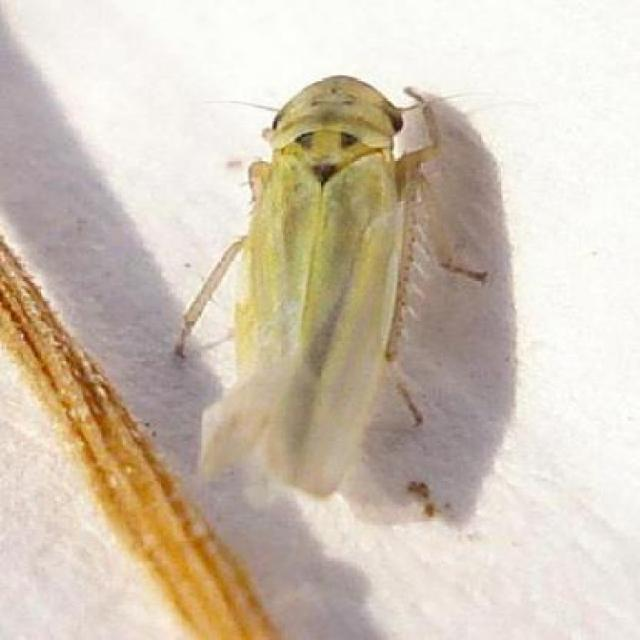green-leafhopper: (220, 84, 429, 510)
